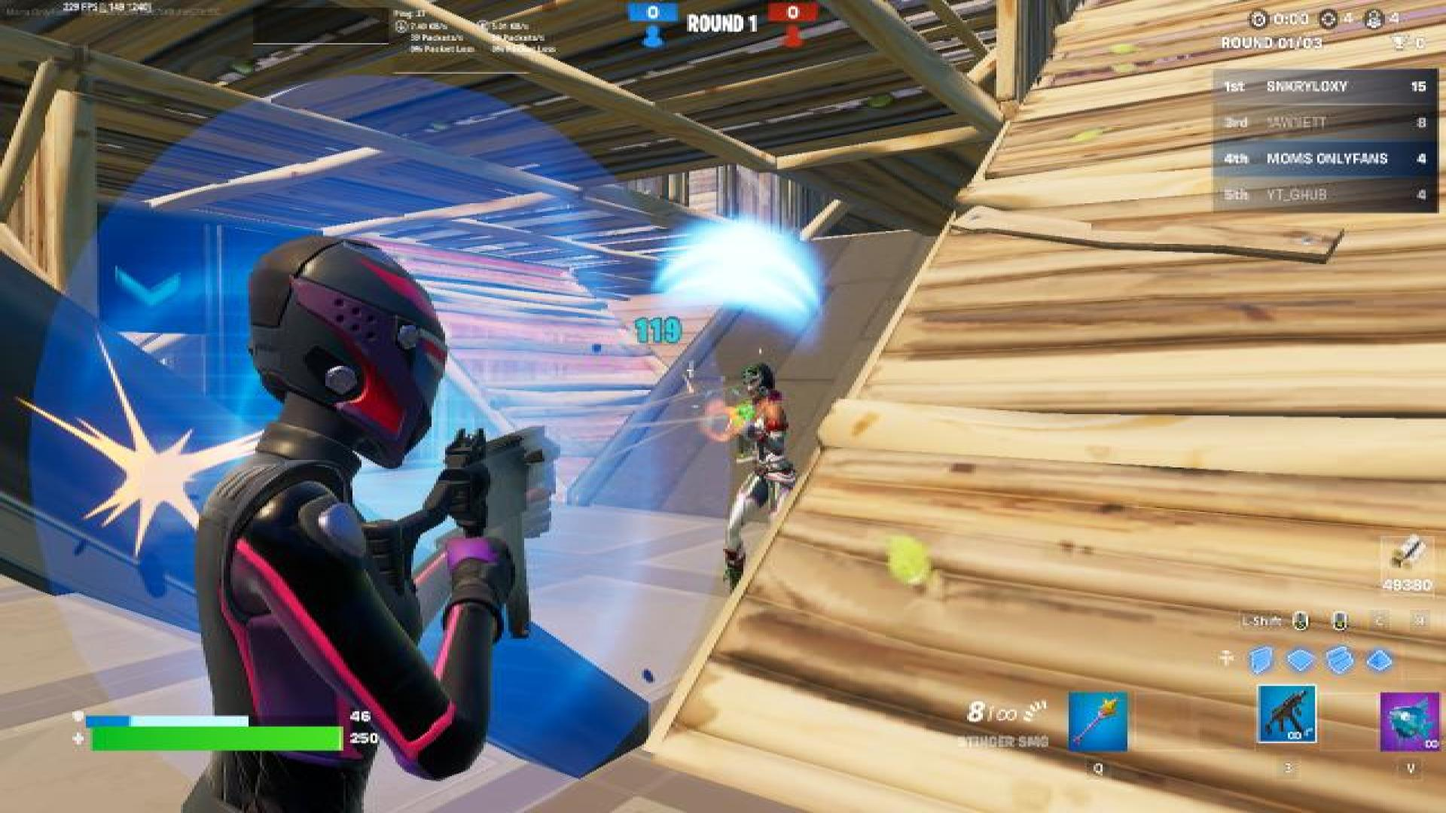player: (703, 367, 800, 582)
